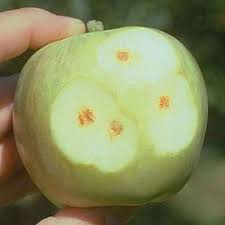damaged_apple: (20, 27, 208, 203)
